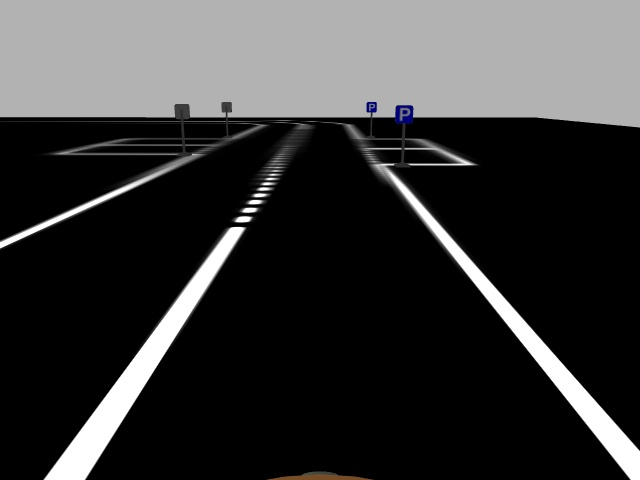parking: (394, 103, 413, 123), (365, 100, 377, 112)
